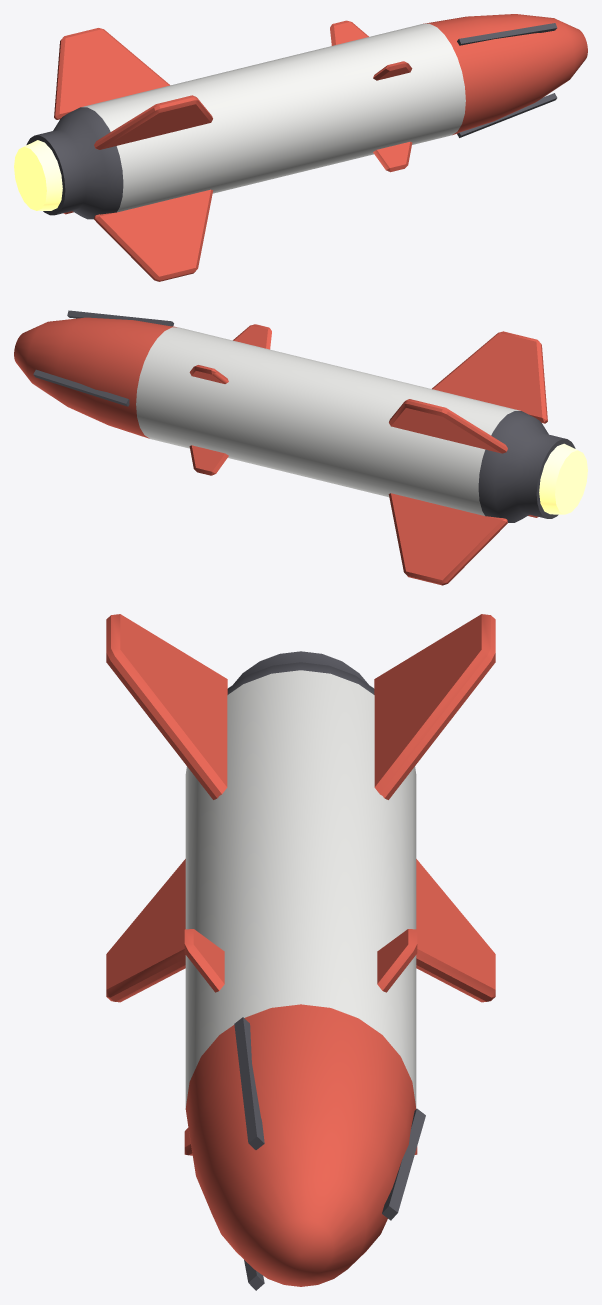
The model's file is missile.glb.
The picture shows the model from 3 angles, top to bottom: view 1: azimuth 30°, elevation 25°; view 2: azimuth 150°, elevation 25°; view 3: azimuth 270°, elevation 25°; orthographic projection. The views are drawn at different scales.
Visible parts, largest first — view 1: missile; view 2: missile; view 3: missile.
Part boxes in pixels (x1,y1,x2,y2): missile: (14, 14, 587, 281); missile: (14, 310, 587, 585); missile: (106, 614, 495, 1290).
Bounding box in the file's own units: 0.78 × 0.2362 × 0.2362.
